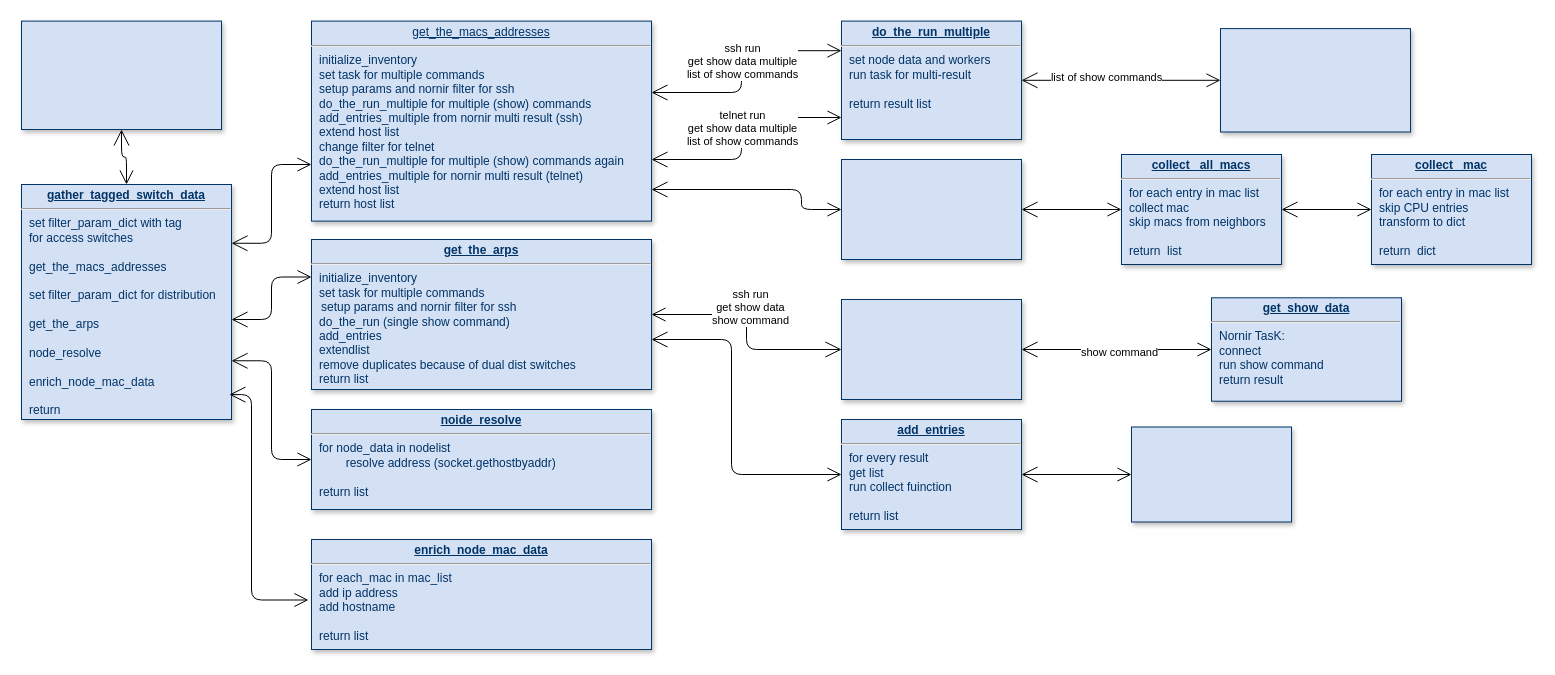
Image size: 1555x675. Some labels were removed from this diagram. The centre of each missing label's shape, as x and y in pixels:
"add_entries_multiple for every result collect function add entries return list" belongs at [932,210].
"collect _arp for each entry in arplist transform to dict return dict" belongs at [1212,475].
"do_the_run set node data and workers run task for result return result" belongs at [932,350].
"gathermovedata-args.py parse arguments gather_tagged_switch_data" belongs at [122,76].
"get_show_data_multiple Nornir TasK: connect run show commands return result" belongs at [1316,81].
